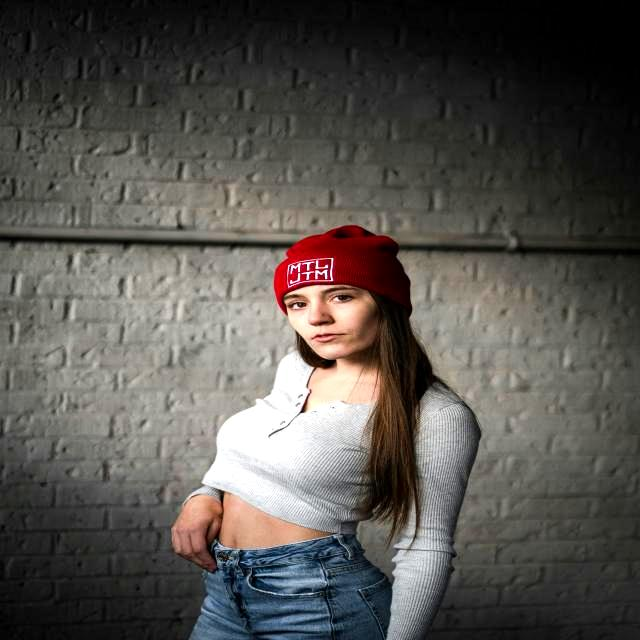no_hard_hat: (274, 225, 411, 312)
person: (169, 225, 479, 639)
